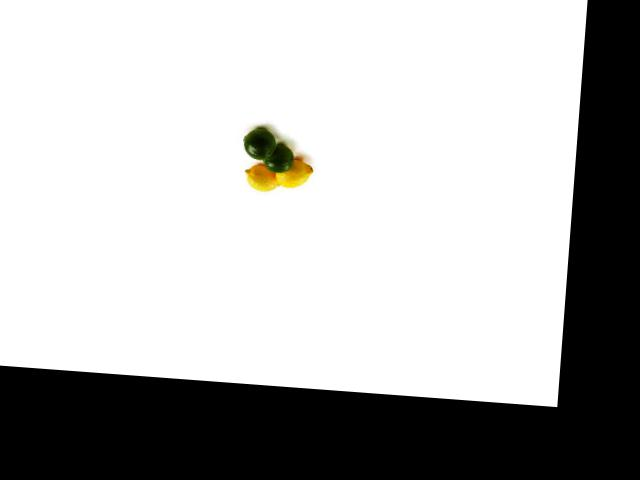lemon: (238, 126, 278, 162)
